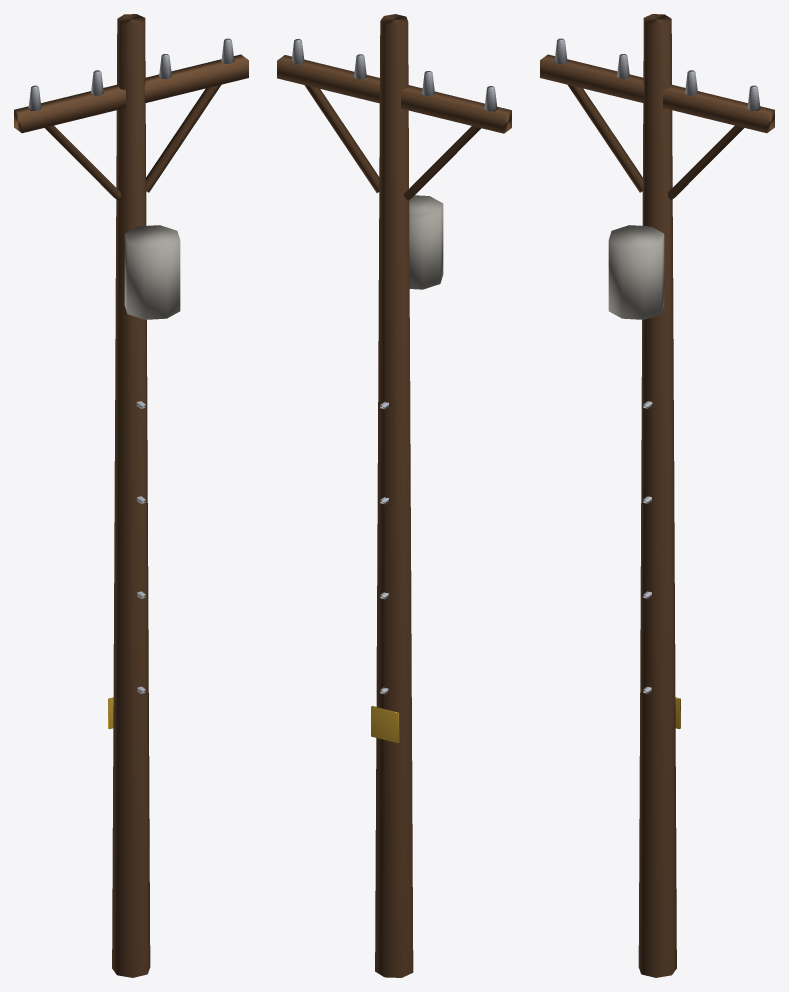
The model's file is utility_pole.glb.
3 views of the same model, side by side, from view 1: azimuth 30°, elevation 25°; view 2: azimuth 150°, elevation 25°; view 3: azimuth 330°, elevation 25° (orthographic).
Visible parts, largest first — view 1: Body; view 2: Body; view 3: Body.
Part boxes in pixels (x1=…): Body: x1=14, y1=14, x2=248, y2=977; Body: x1=277, y1=14, x2=511, y2=977; Body: x1=540, y1=14, x2=774, y2=977.
Size of the model in its own units: 2 by 8 by 0.72.
1 material, 1 textured.
